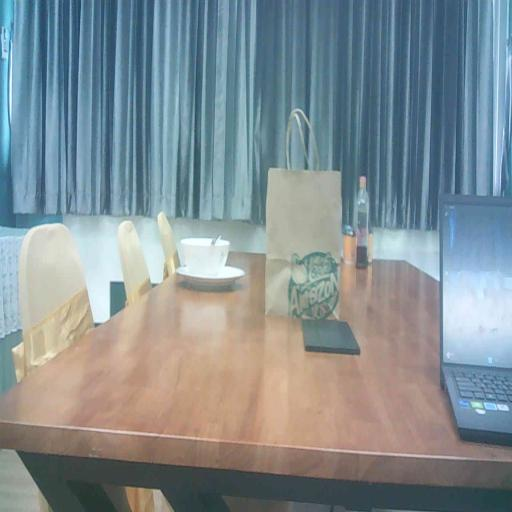bag: (263, 160, 342, 331)
